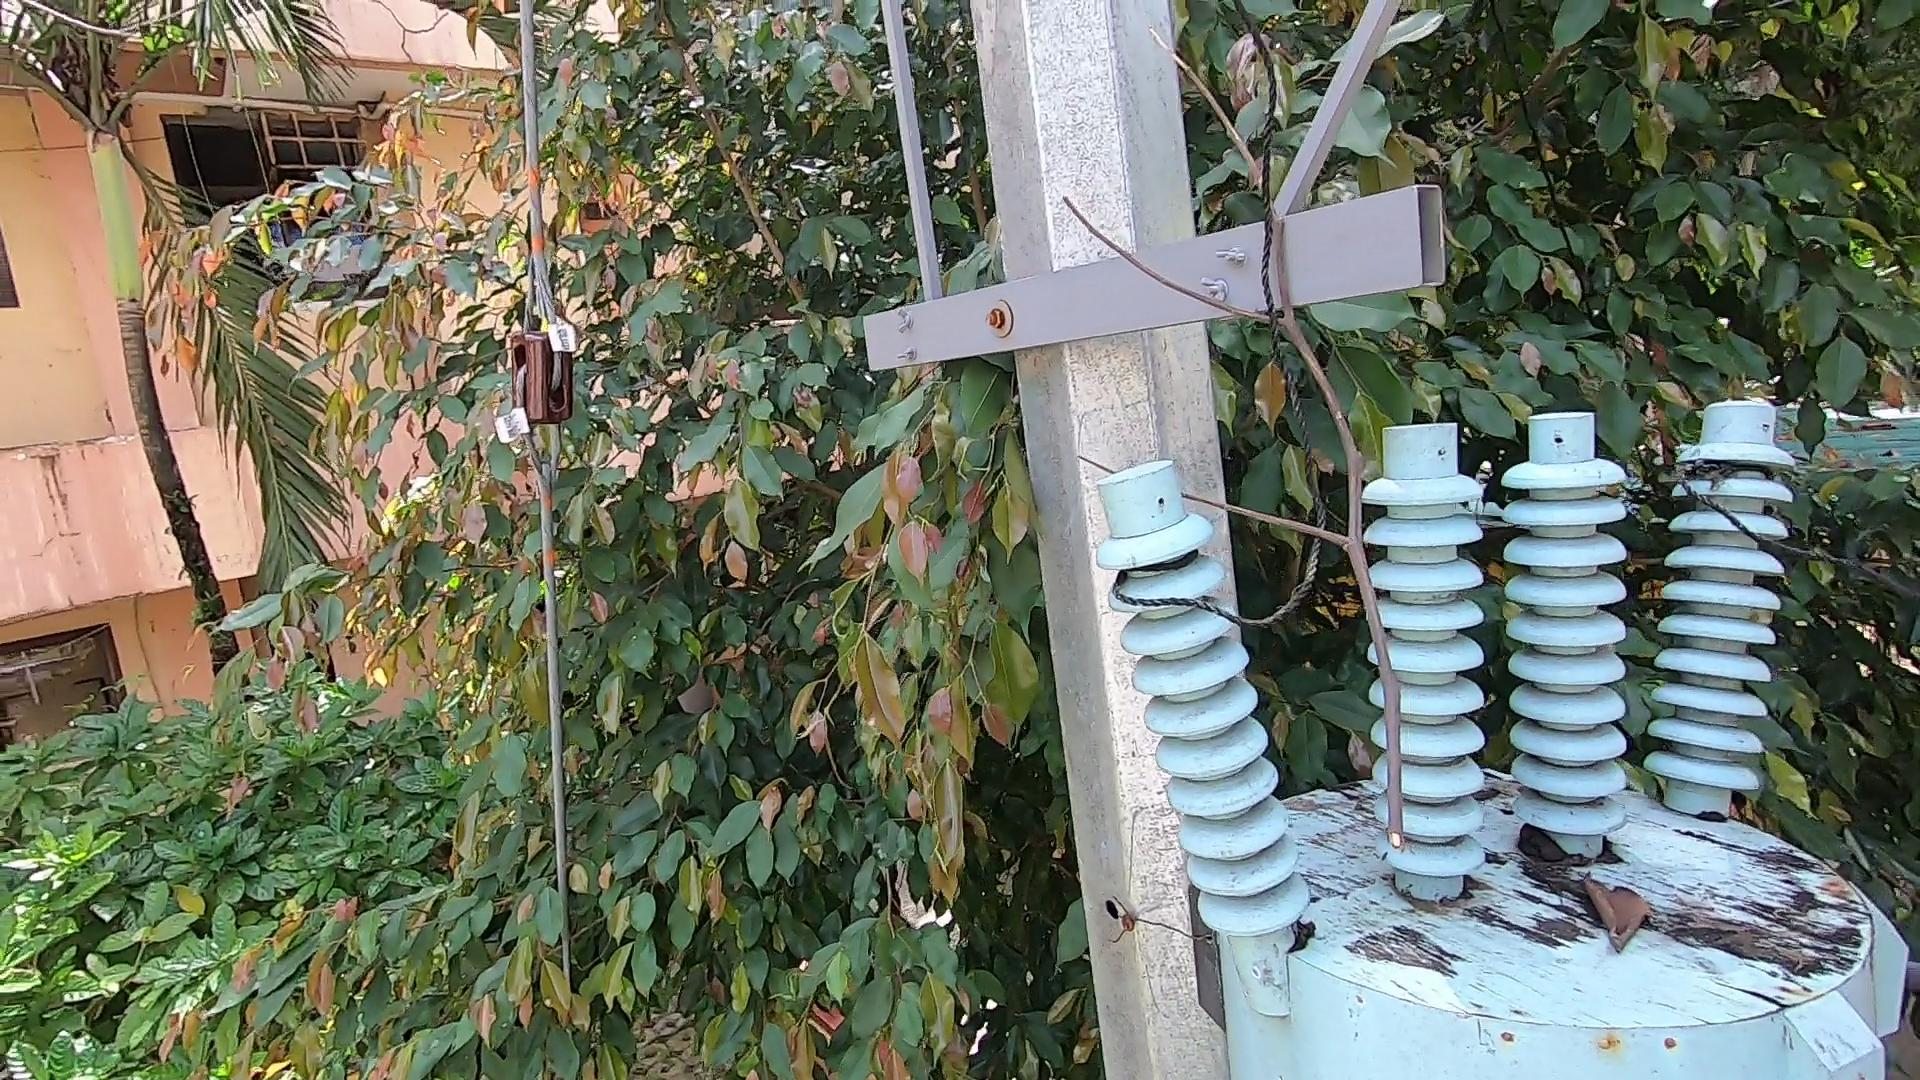leaf: (1578, 873, 1644, 971), (1511, 808, 1565, 872)
tree branch: (1054, 11, 1431, 860)
